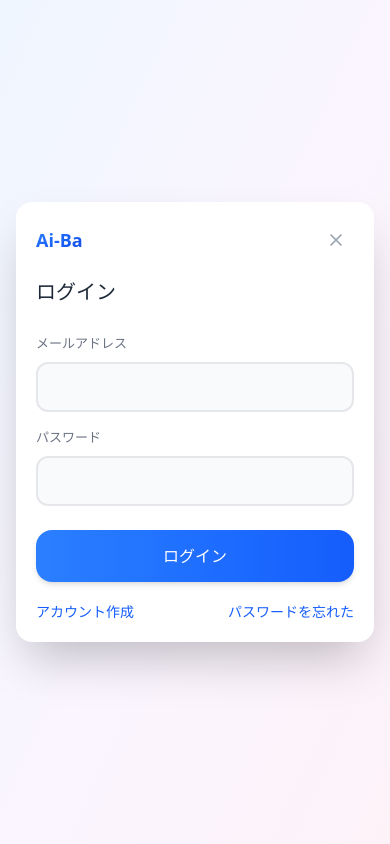
Test: AuthModal › ログインフォーム › エラー時にエラーメッセージが表示される
Type "test@example.com" into the field with test id "login-email" at (195, 387), box 36,362 -> 354,412
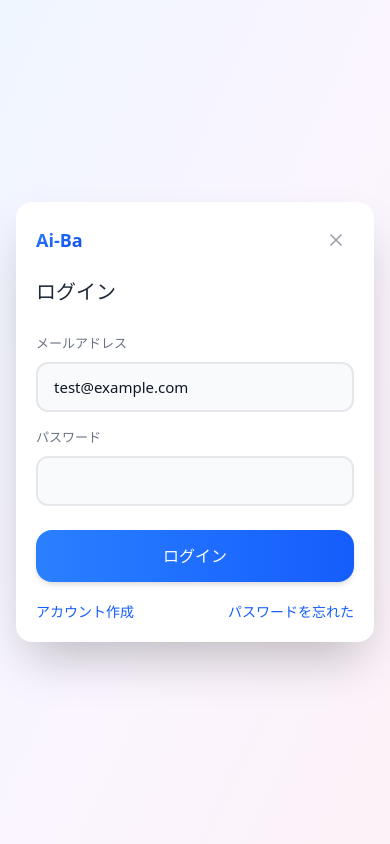
Type "wrong" into the password field with test id "login-password" at (195, 481), box 36,456 -> 354,506
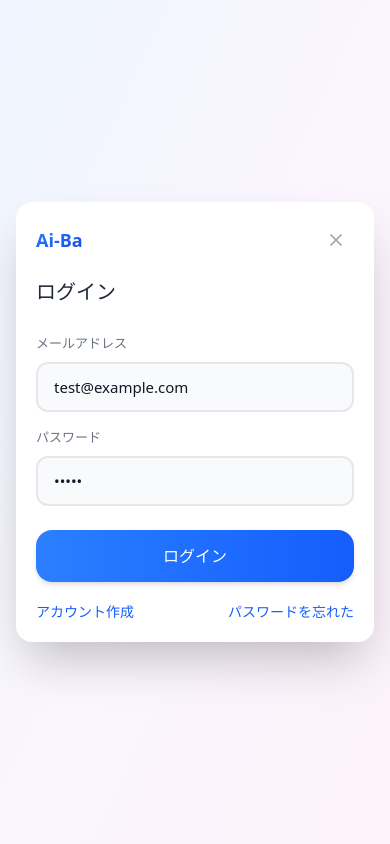
Click the button with test id "login-submit" at (195, 556), box 36,530 -> 354,582
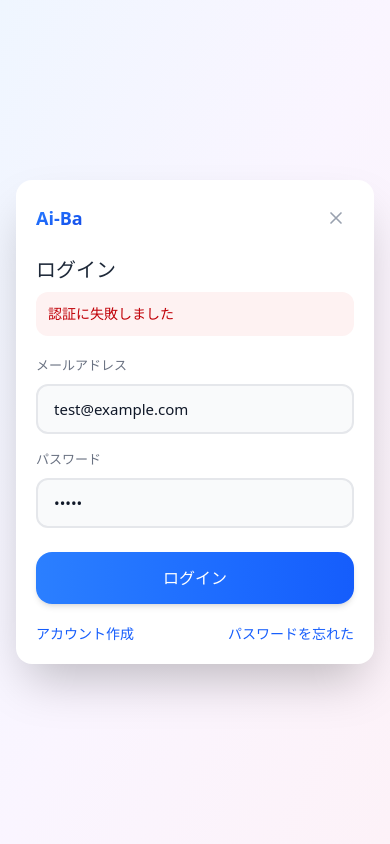
Now the text with test id "auth-error" reads "認証に失敗しました", box 48,304 -> 174,323
